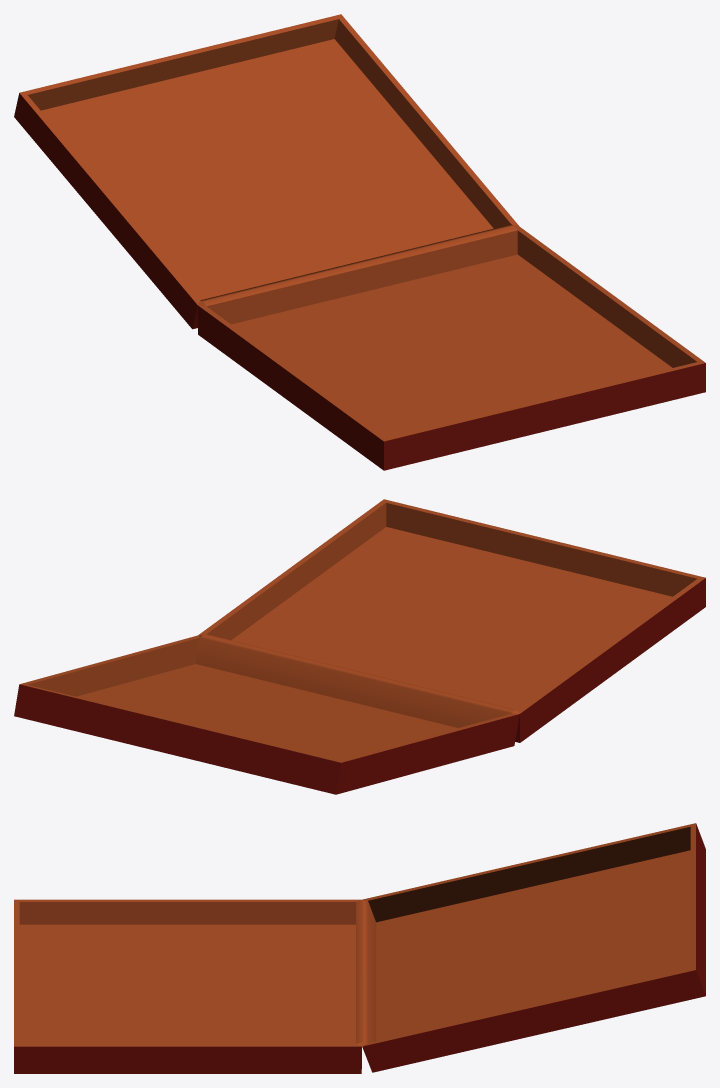
File: Food Court_Pizza Box.fbx
The picture shows the model from 3 angles, top to bottom: view 1: azimuth 30°, elevation 25°; view 2: azimuth 150°, elevation 25°; view 3: azimuth 270°, elevation 25°; orthographic projection. The views are drawn at different scales.
Parts seen in each view (by area): view 1: pCube54; view 2: pCube54; view 3: pCube54.
Boxes of the visible parts, x1=… form: pCube54: x1=14, y1=14, x2=705, y2=470; pCube54: x1=14, y1=499, x2=705, y2=794; pCube54: x1=14, y1=823, x2=705, y2=1073.
Bounding box in the file's own units: 1.33 × 0.4395 × 2.65.
